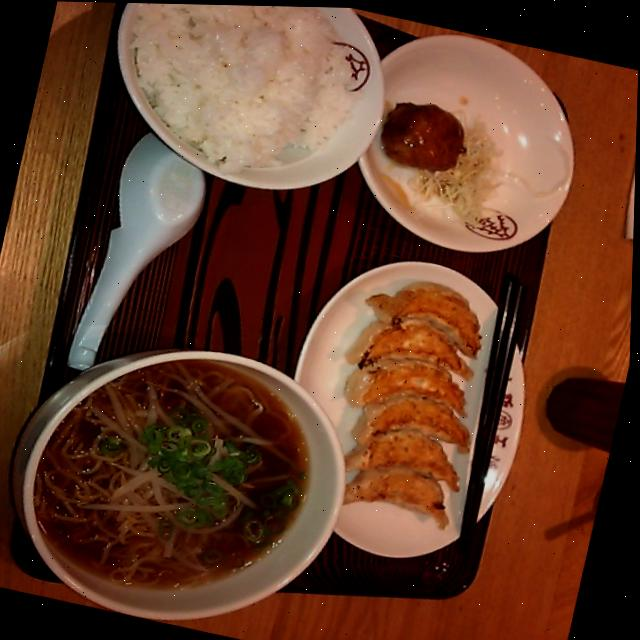带馅早点: (267, 230, 559, 579)
米饭主食: (85, 2, 402, 208)
